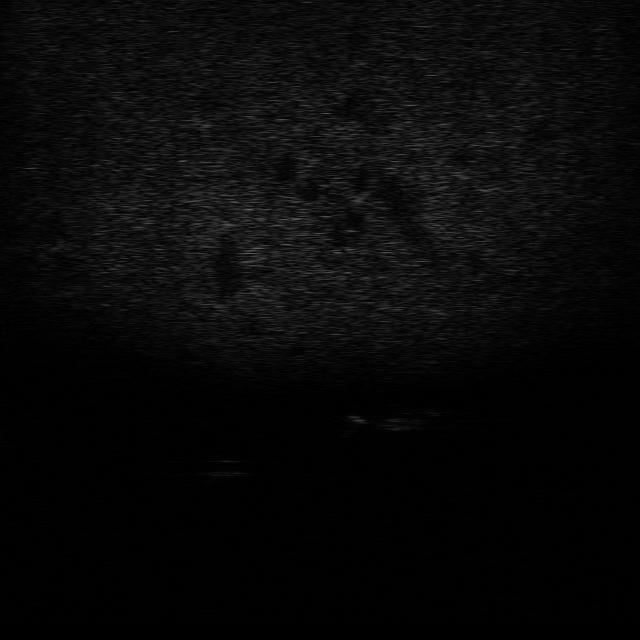ball: (199, 454, 251, 482)
human body: (340, 405, 450, 434)
